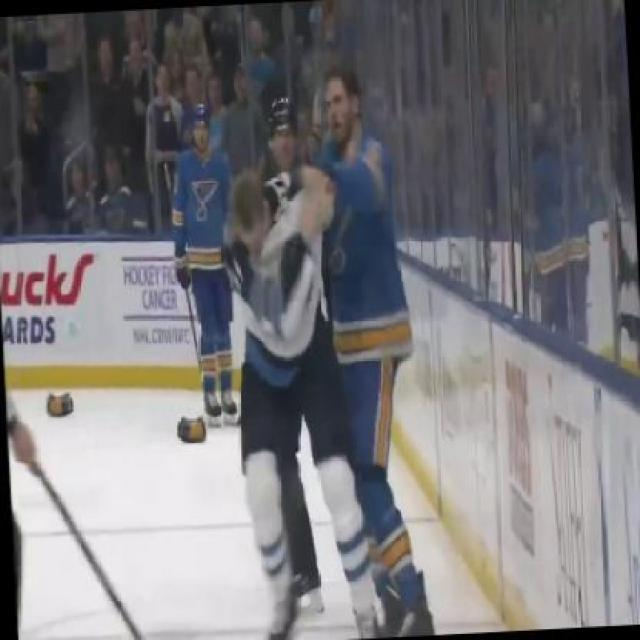fight: (210, 65, 424, 588)
non-fight: (158, 95, 246, 434)
